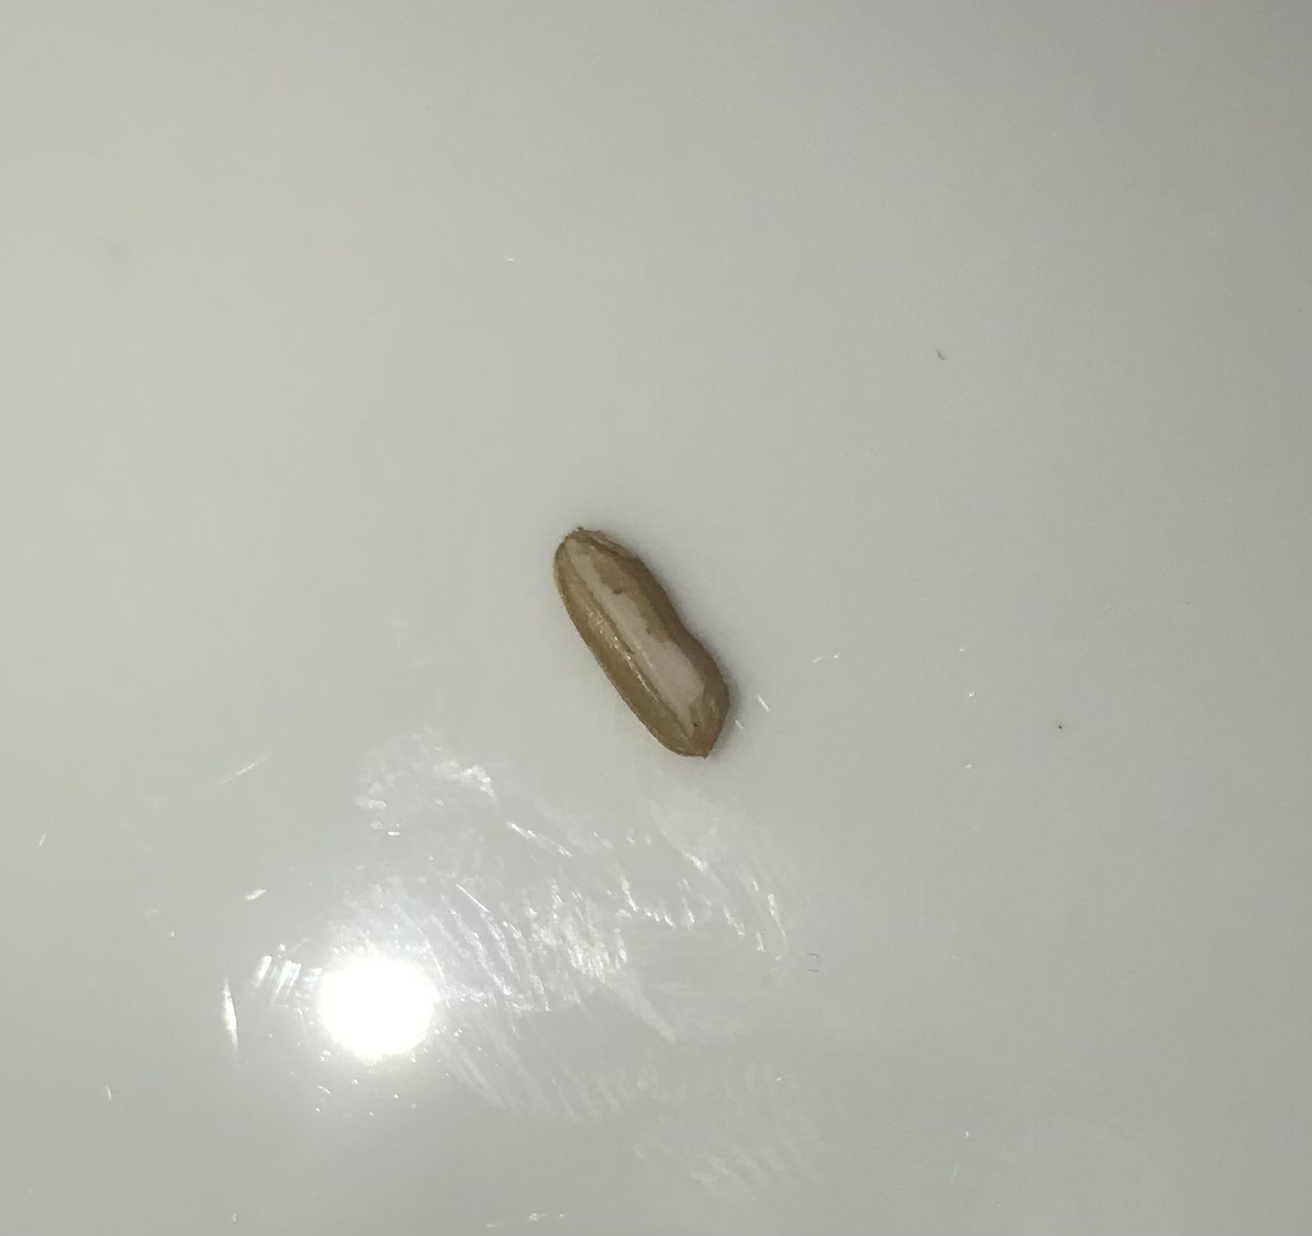Gao Lut Dien Bien: (535, 513, 739, 766)
